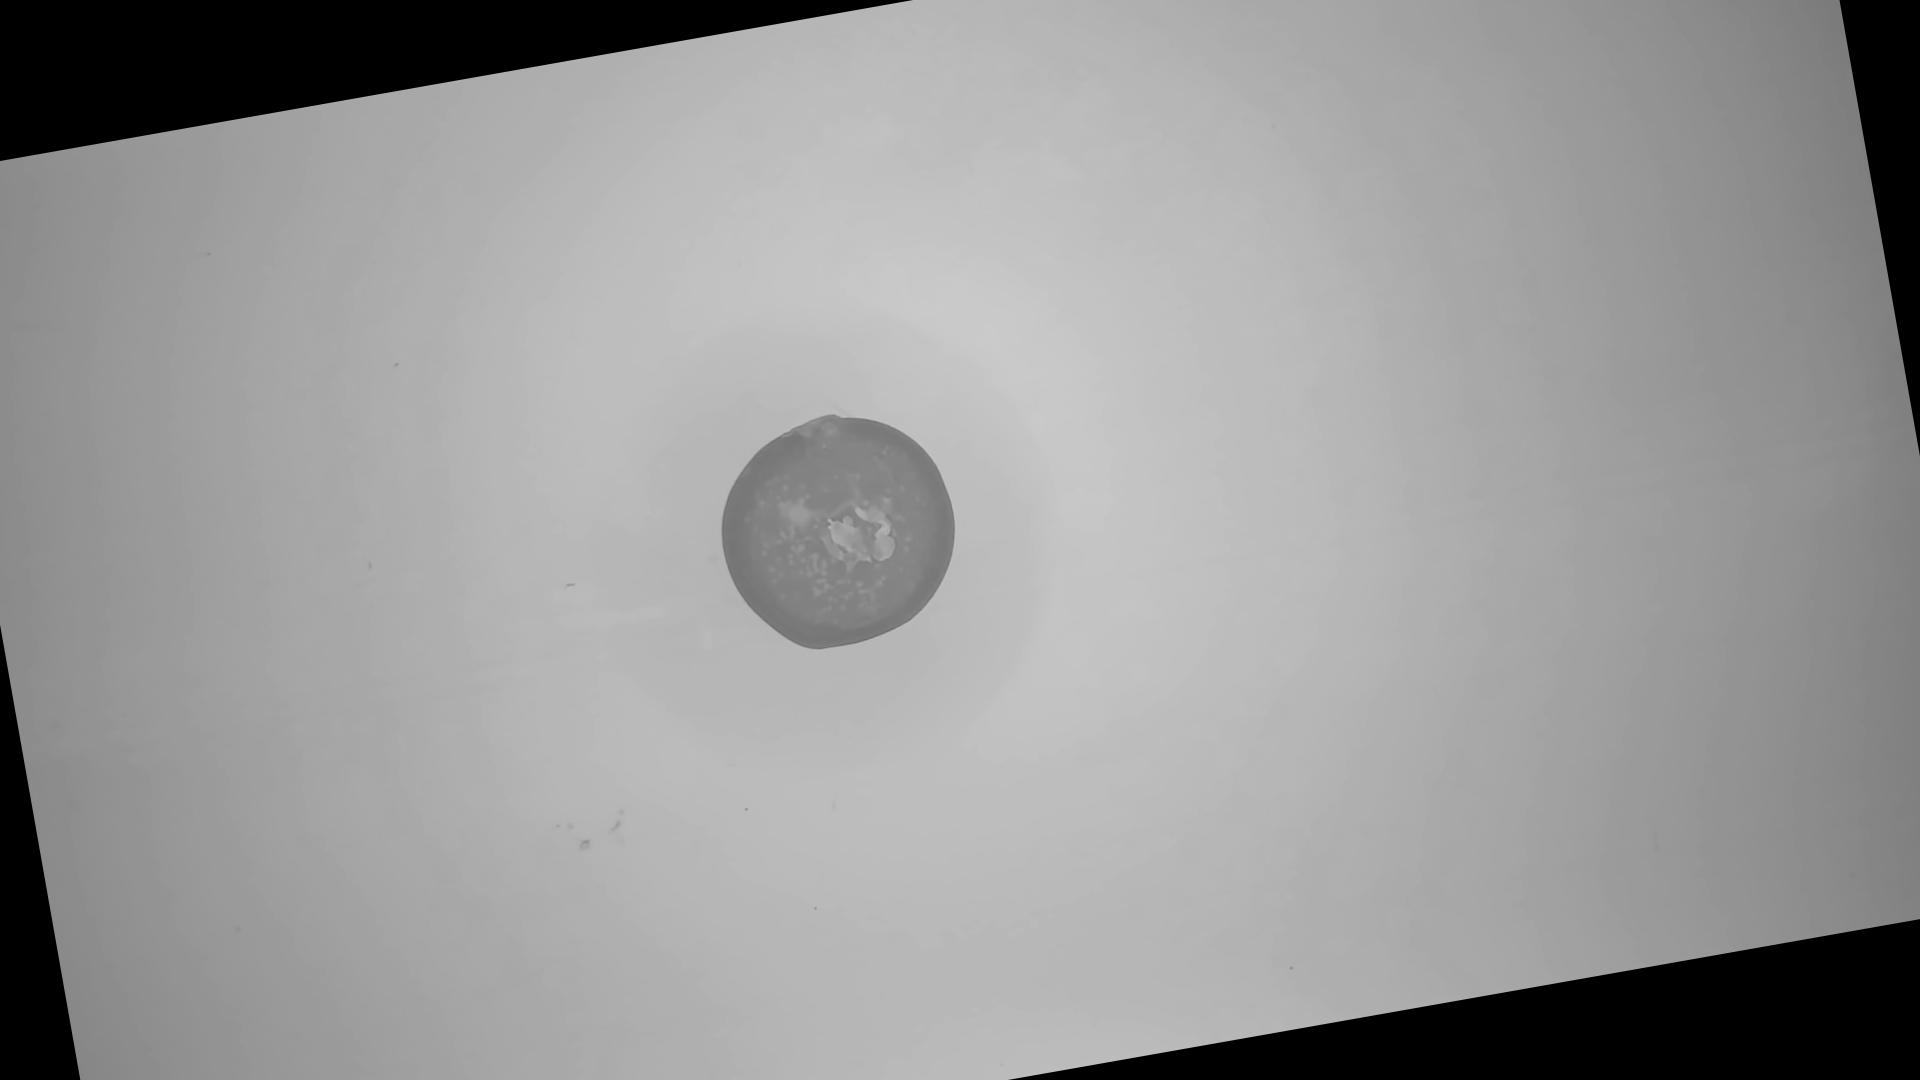abnormal: (704, 397, 975, 665)
